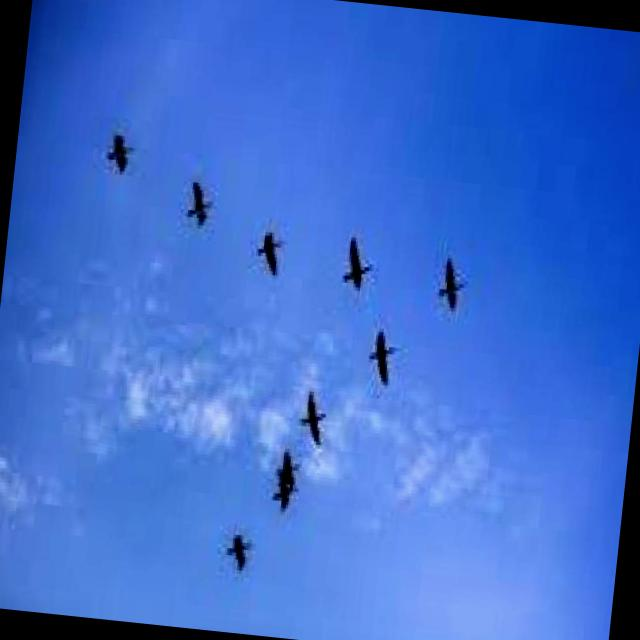bird: (324, 232, 384, 296), (284, 384, 342, 448), (427, 247, 480, 317), (359, 322, 410, 388), (92, 125, 145, 182), (245, 221, 294, 281), (175, 174, 222, 233), (215, 524, 258, 582)
